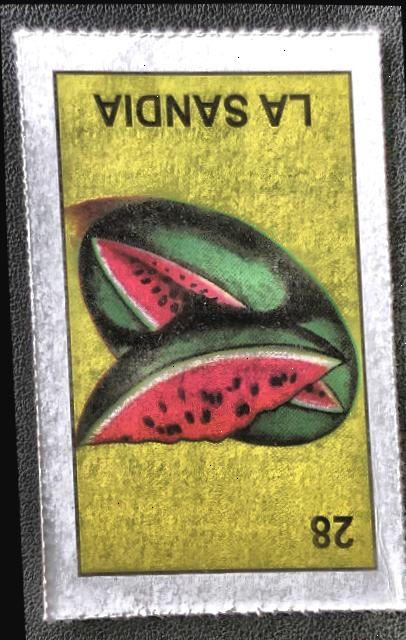La Sandia: (28, 39, 394, 602)
